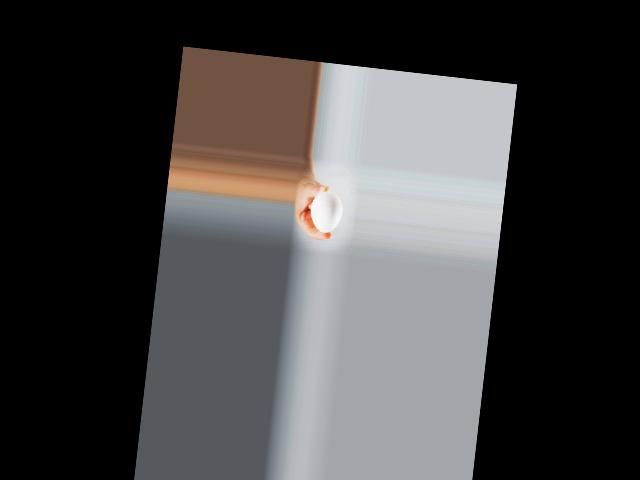egg: (308, 190, 344, 234)
